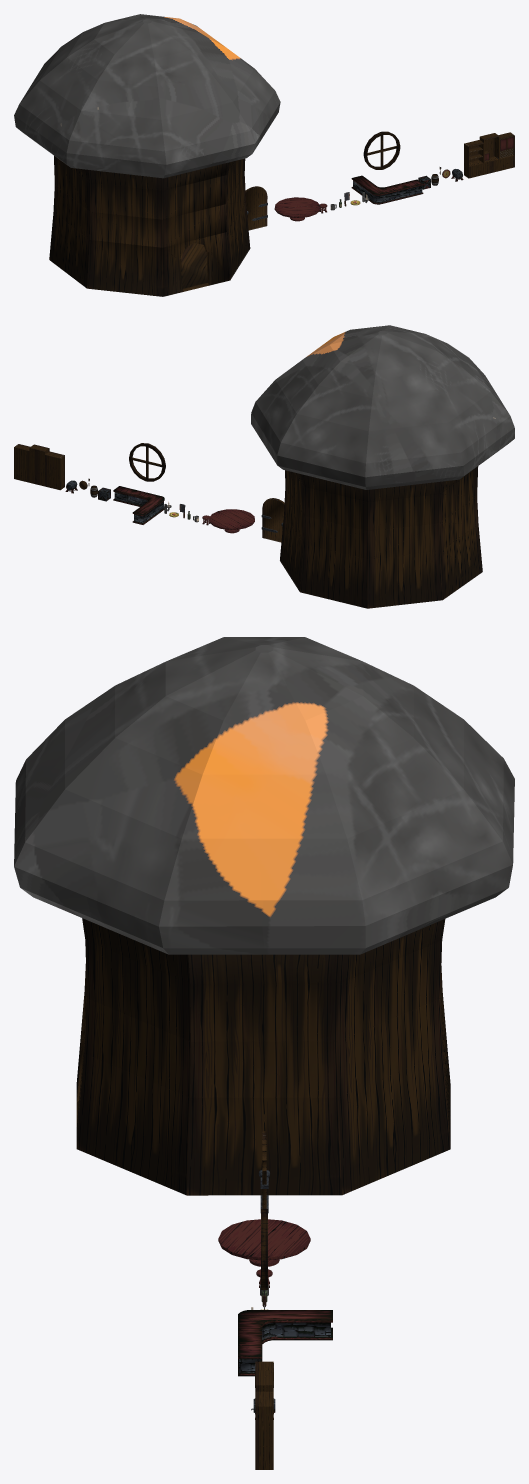
The model's file is MushroomHouse.fbx.
3 views of the same model, one above another, from view 1: azimuth 30°, elevation 25°; view 2: azimuth 150°, elevation 25°; view 3: azimuth 270°, elevation 25° (orthographic). The views are drawn at different scales.
Visible parts, largest first — view 1: Cylinder.018, Stump.003, DrinkCabinet, Bar, Door, Table, Window; view 2: Cylinder.018, Stump.003, DrinkCabinet, Bar, Door, Table, Window; view 3: Cylinder.018, Stump.003, Bar, Table, DrinkCabinet.
Boxes of the visible parts, x1,y1,x2,y2 form: Cylinder.018: [14, 14, 280, 178]; Stump.003: [49, 156, 250, 296]; DrinkCabinet: [464, 132, 514, 178]; Bar: [351, 175, 423, 204]; Door: [245, 186, 267, 230]; Table: [274, 197, 320, 221]; Window: [363, 131, 400, 169]; Cylinder.018: [251, 325, 514, 489]; Stump.003: [280, 466, 482, 608]; DrinkCabinet: [14, 444, 64, 490]; Bar: [113, 486, 164, 524]; Door: [261, 498, 284, 542]; Table: [209, 509, 254, 533]; Window: [129, 443, 165, 481]; Cylinder.018: [14, 637, 514, 954]; Stump.003: [76, 918, 450, 1195]; Bar: [238, 1310, 332, 1376]; Table: [218, 1219, 310, 1266]; DrinkCabinet: [255, 1361, 273, 1469].
Size of the model in its own units: 10.88 by 23.61 by 11.15.
Materials: 17 (17 with a texture image).
